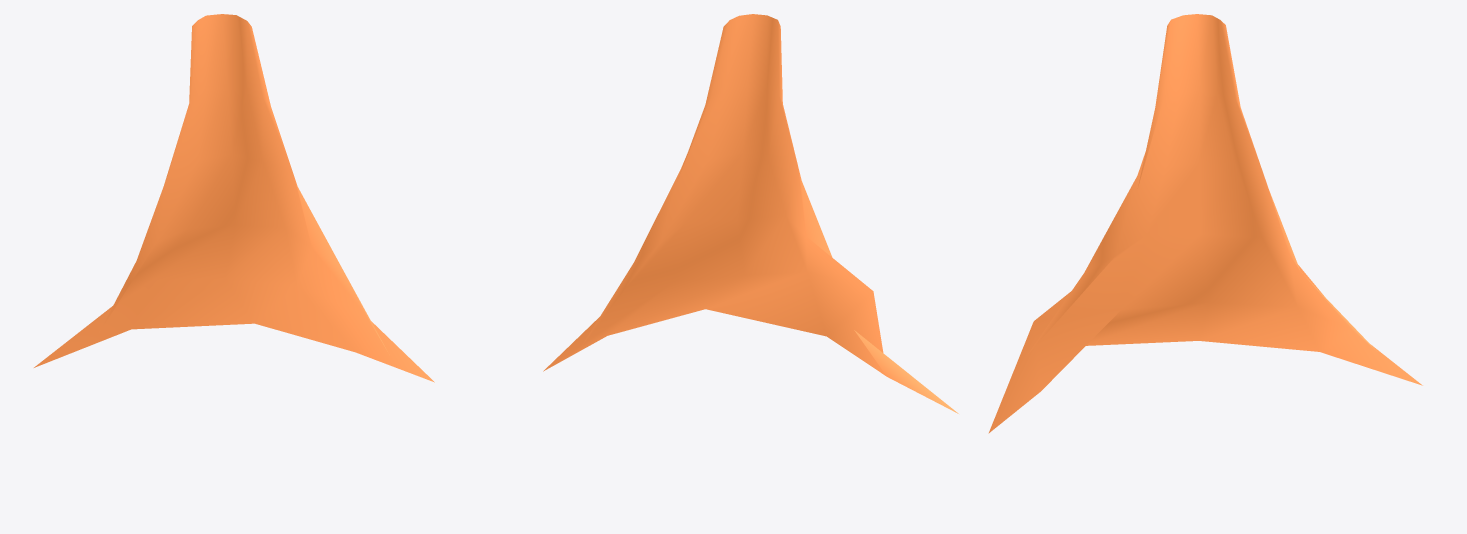
Rendered from prop-volcano-02.glb.
3 renders of one model, left to right at view 1: azimuth 30°, elevation 25°; view 2: azimuth 150°, elevation 25°; view 3: azimuth 270°, elevation 25°, orthographic. The views are drawn at different scales.
Visible parts, largest first — view 1: volcano; view 2: volcano; view 3: volcano.
Part boxes in pixels (bbox=[...]): volcano: bbox=[34, 14, 434, 382]; volcano: bbox=[543, 14, 958, 413]; volcano: bbox=[988, 14, 1422, 433].
Size of the model in its own units: 0.9764 by 1 by 1.07.
